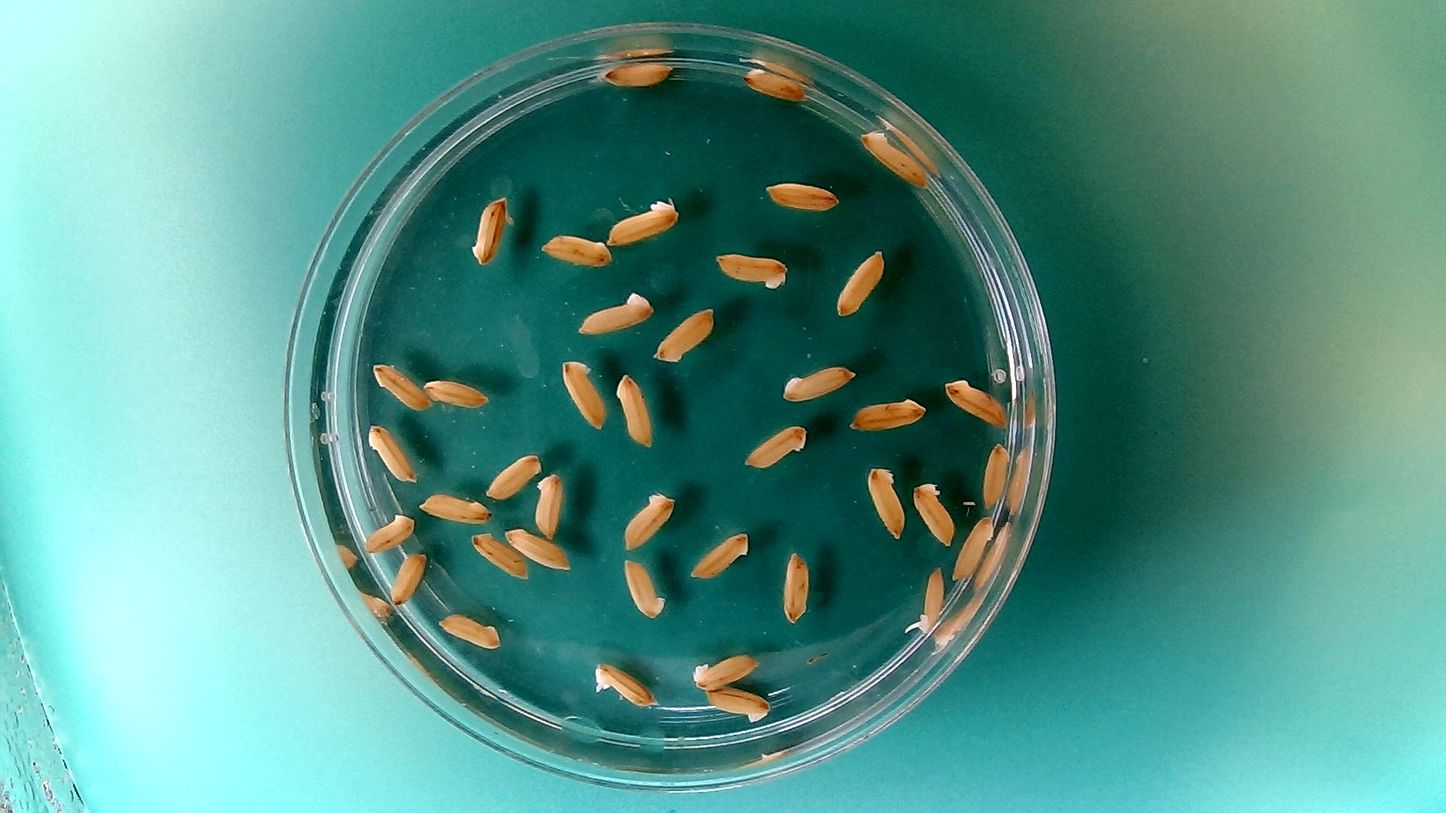no: (857, 126, 932, 189), (602, 192, 682, 248), (572, 286, 657, 338), (649, 303, 718, 363), (832, 245, 886, 318), (559, 355, 609, 431), (941, 374, 1011, 428), (618, 487, 676, 552), (613, 370, 657, 451), (740, 420, 810, 470), (686, 527, 752, 580), (864, 461, 907, 542), (712, 247, 791, 291), (365, 419, 418, 484), (777, 360, 858, 402), (468, 192, 513, 266), (846, 394, 929, 434), (910, 478, 957, 548), (467, 528, 529, 580), (371, 360, 433, 412), (502, 526, 571, 572), (952, 511, 996, 583), (483, 449, 543, 501), (621, 555, 668, 620), (690, 649, 763, 690), (762, 178, 842, 214), (538, 230, 614, 267), (778, 545, 812, 626), (435, 610, 502, 650), (417, 489, 493, 524), (739, 65, 809, 103), (703, 685, 771, 724), (420, 374, 492, 410), (360, 510, 416, 555), (978, 438, 1012, 511), (532, 467, 566, 540), (388, 547, 429, 607), (599, 58, 675, 89)
yes: (590, 658, 659, 710), (908, 562, 947, 638)
